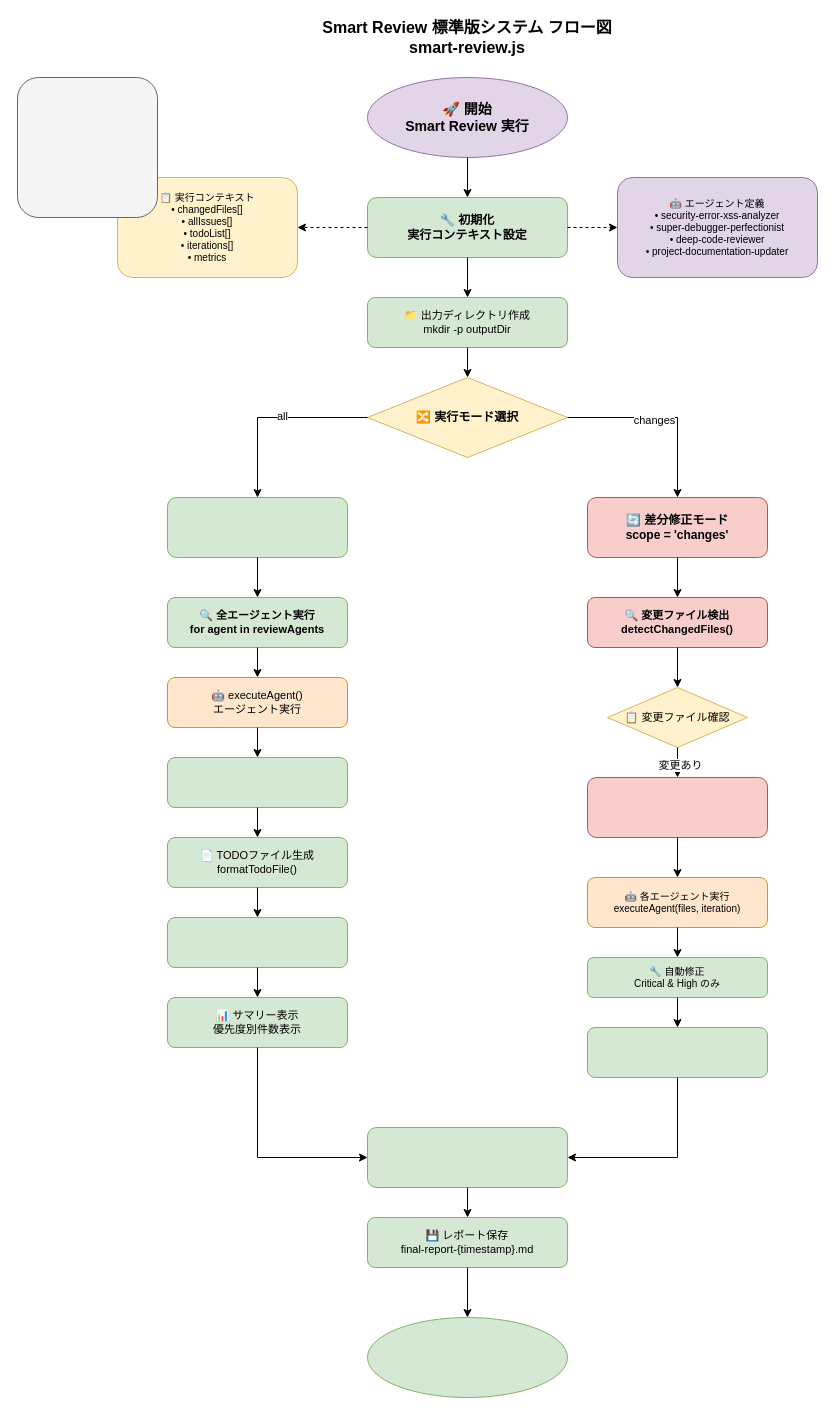
The diagram is 835 pixels wide and 1415 high, and some of its shapes have lost their labels. Here are the shapes that lost their labels. From the top down, the centre of each, then its label:
At [87,147]: "🔍 凡例 ━━ メインフロー ┅┅ 詳細処理 📊 全体分析モード 🔄 差分修正モード 🤖 エージェント実行 📋 TODO生成 📄 レポート生成".
At [257,527]: "📊 全体分析モード scope = 'all'".
At [257,782]: "📋 TODO生成 generateTodoList()".
At [677,807]: "🔄 イテレーションループ while hasErrors".
At [257,942]: "💾 TODOファイル保存 TODO-{timestamp}.md".
At [677,1052]: "📝 コメント注釈 code-comment-annotator-ja".
At [467,1157]: "📄 最終レポート生成 generateFinalReport()".
At [467,1357]: "✅ 成功完了 Smart Review 完了".
